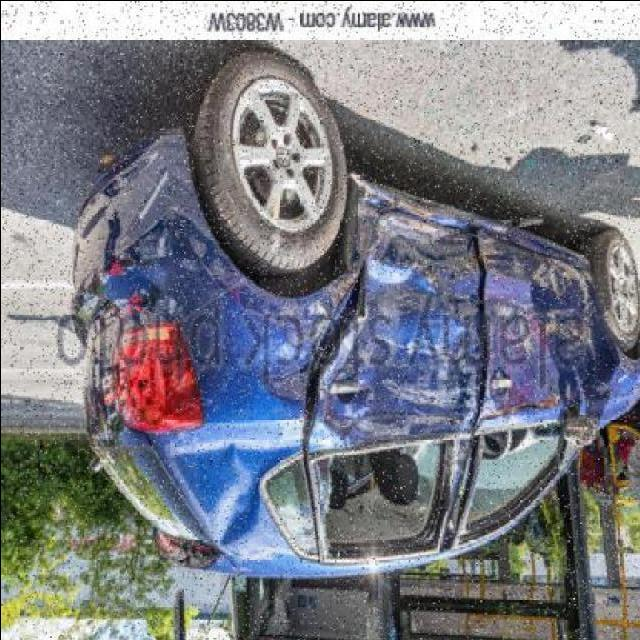doorouter-dent: (344, 236, 475, 440), (481, 250, 592, 426)
quaterpanel-dent: (178, 222, 334, 440)
